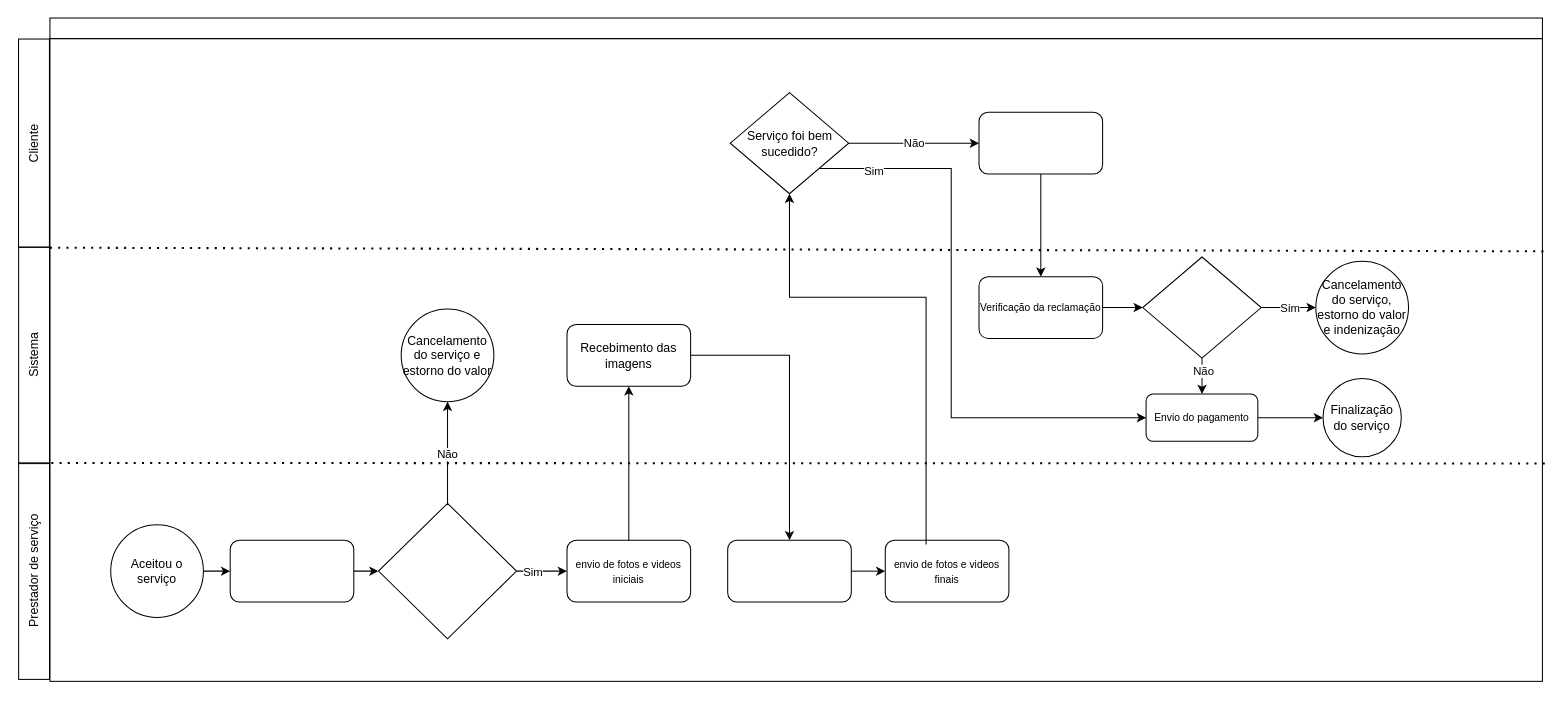
The diagram is 1567 pixels wide and 709 high, and some of its shapes have lost their labels. The centre of each missing label's shape, as x and y in pixels:
"A reclamação é válida?" goes at (1201,307).
"Chegada ao local" goes at (291,570).
"envio de fotos e videos provando a falha" goes at (1040,142).
"Prestação de serviço" goes at (795,28).
"Realização do serviço" goes at (789,570).
"Serviço solicitado coincide com a descrição de serviço" goes at (447,570).
